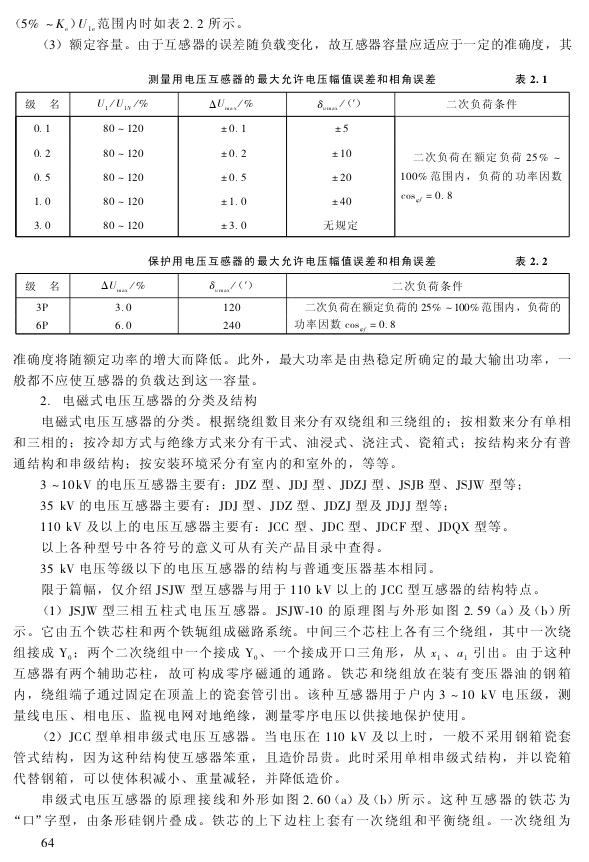table: (15, 90, 571, 237), (15, 271, 571, 334)
